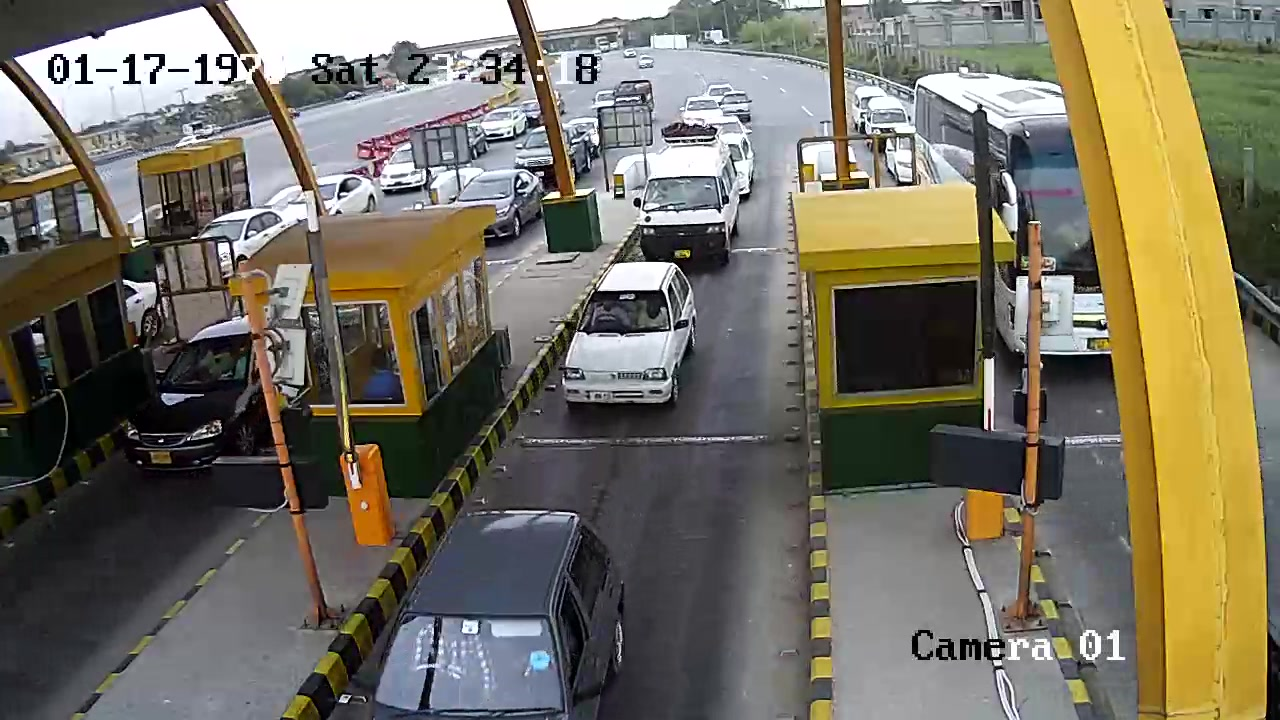F1: (556, 253, 707, 424)
